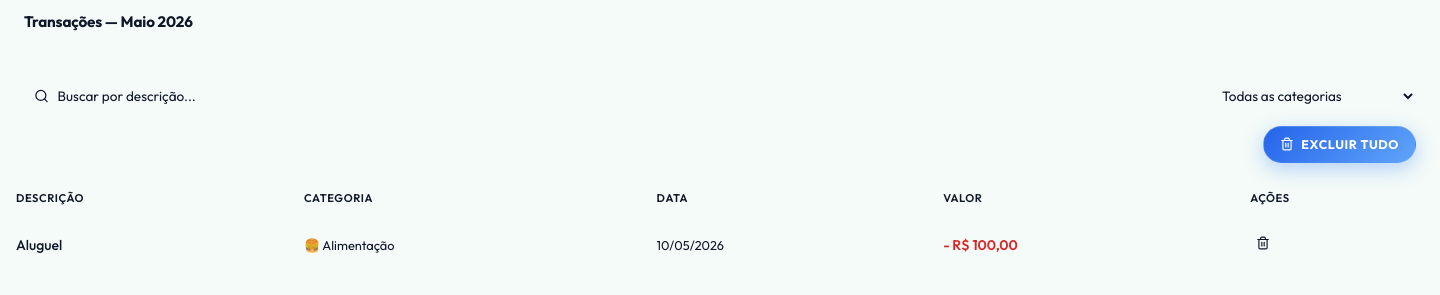
Scenario: TransactionList — busca com debounce › exibe mensagem "nenhuma transação encontrada" quando busca não retorna resultados
Type "netflix" into the field labelled "Buscar por descrição..." at (609,96), box [24, 79, 1194, 113]
Wait 300 ms
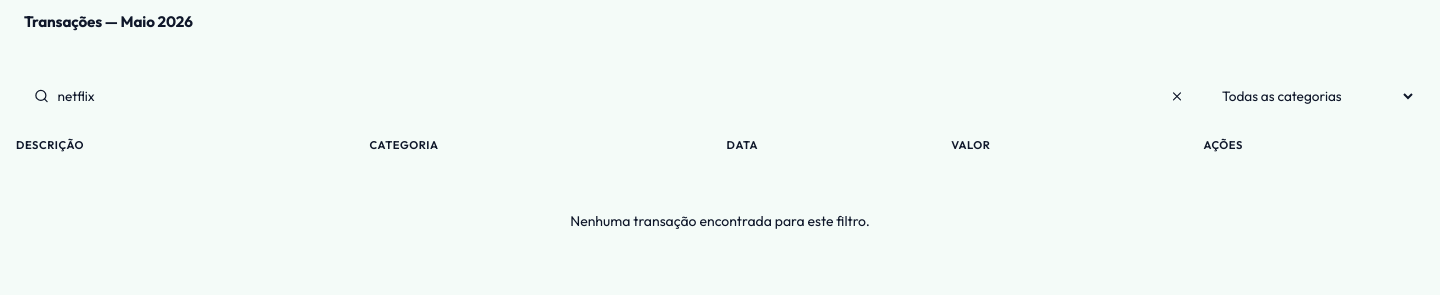
Check: the text "Nenhuma transação encontrada para este filtro." is shown, box [0, 164, 1439, 278]
